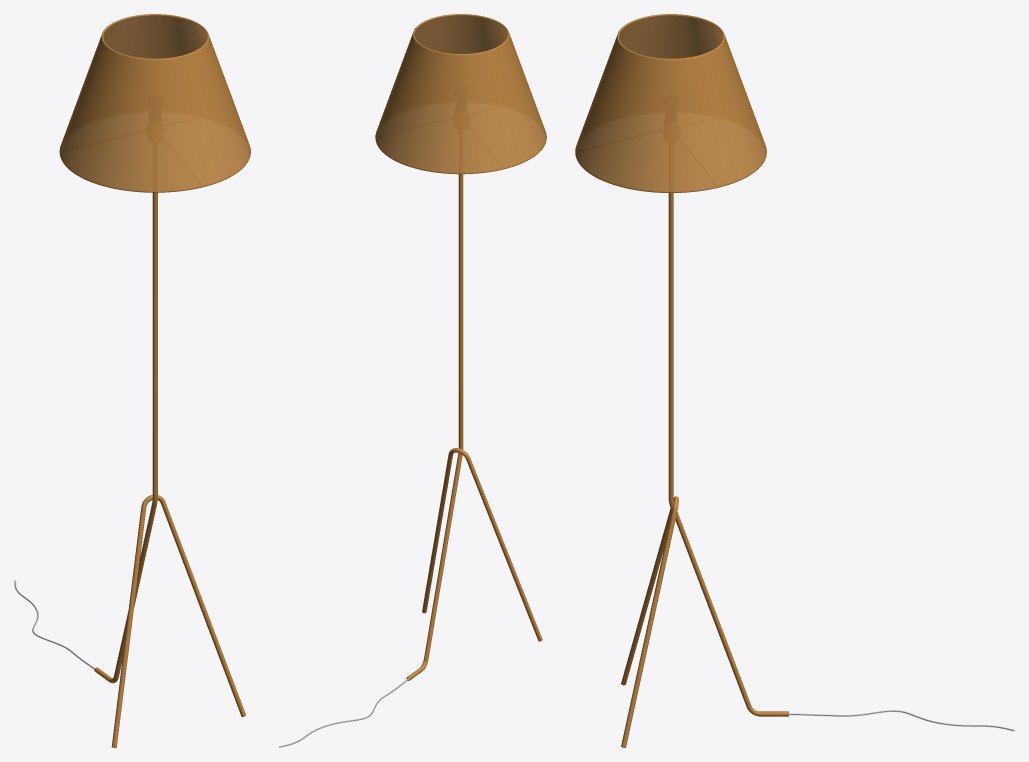
The model's file is LigneRoset_Spilla_floor_mat(1).fbx.
3 renders of one model, left to right at view 1: azimuth 30°, elevation 25°; view 2: azimuth 150°, elevation 25°; view 3: azimuth 270°, elevation 25°, orthographic. The views are drawn at different scales.
Visible parts, largest first — view 1: LigneRoset_Spilla_floor_mat1; view 2: LigneRoset_Spilla_floor_mat1; view 3: LigneRoset_Spilla_floor_mat1.
Boxes of the visible parts, box(x1,y1,x2,y2) form: LigneRoset_Spilla_floor_mat1: box(14, 14, 250, 747); LigneRoset_Spilla_floor_mat1: box(279, 14, 546, 747); LigneRoset_Spilla_floor_mat1: box(575, 14, 1014, 747).
Bounding box in the file's own units: 44.73 × 103 × 175.
